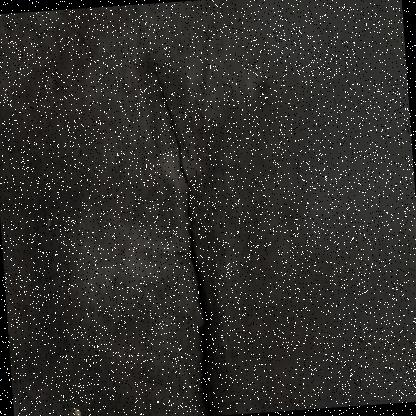Crack: (104, 52, 262, 415)
